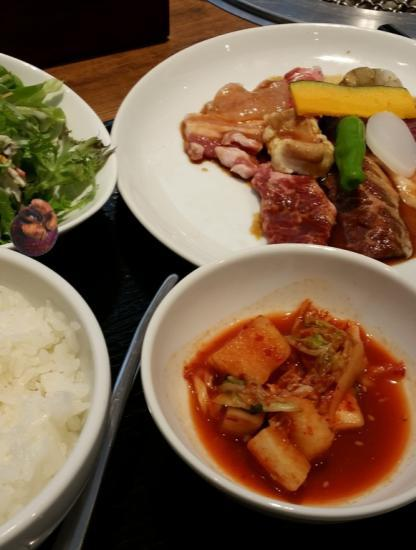Mangostan: (6, 198, 66, 258)
